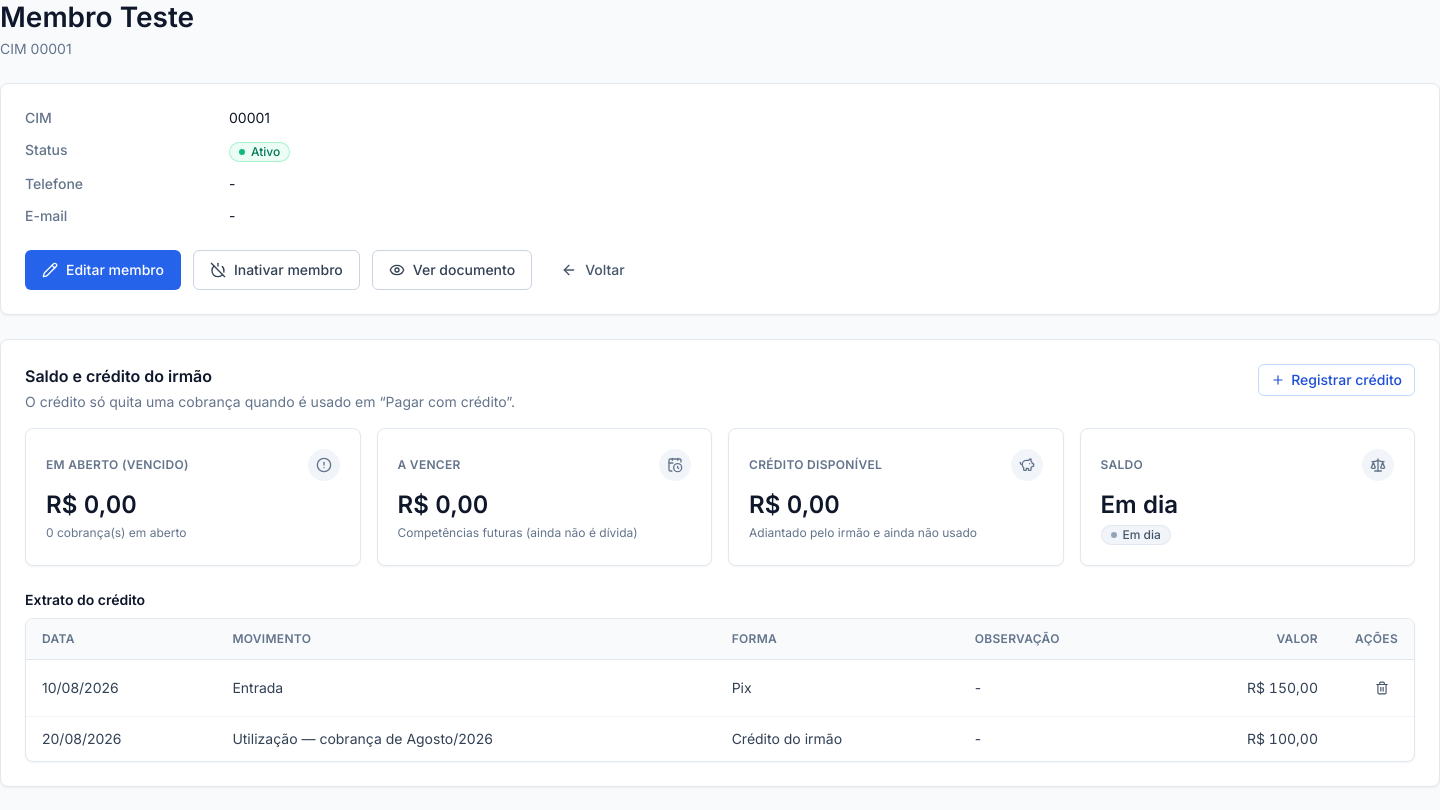
Test: MembroDetailPage — registrar e excluir crédito › exclui uma entrada após confirmação e recarrega saldo e extrato; utilização não tem exclusão
Click the button named "Excluir crédito de R$ 150,00 de 10/08/2026".
click(1382, 688)  # box x1=1366 y1=672 x2=1398 y2=704
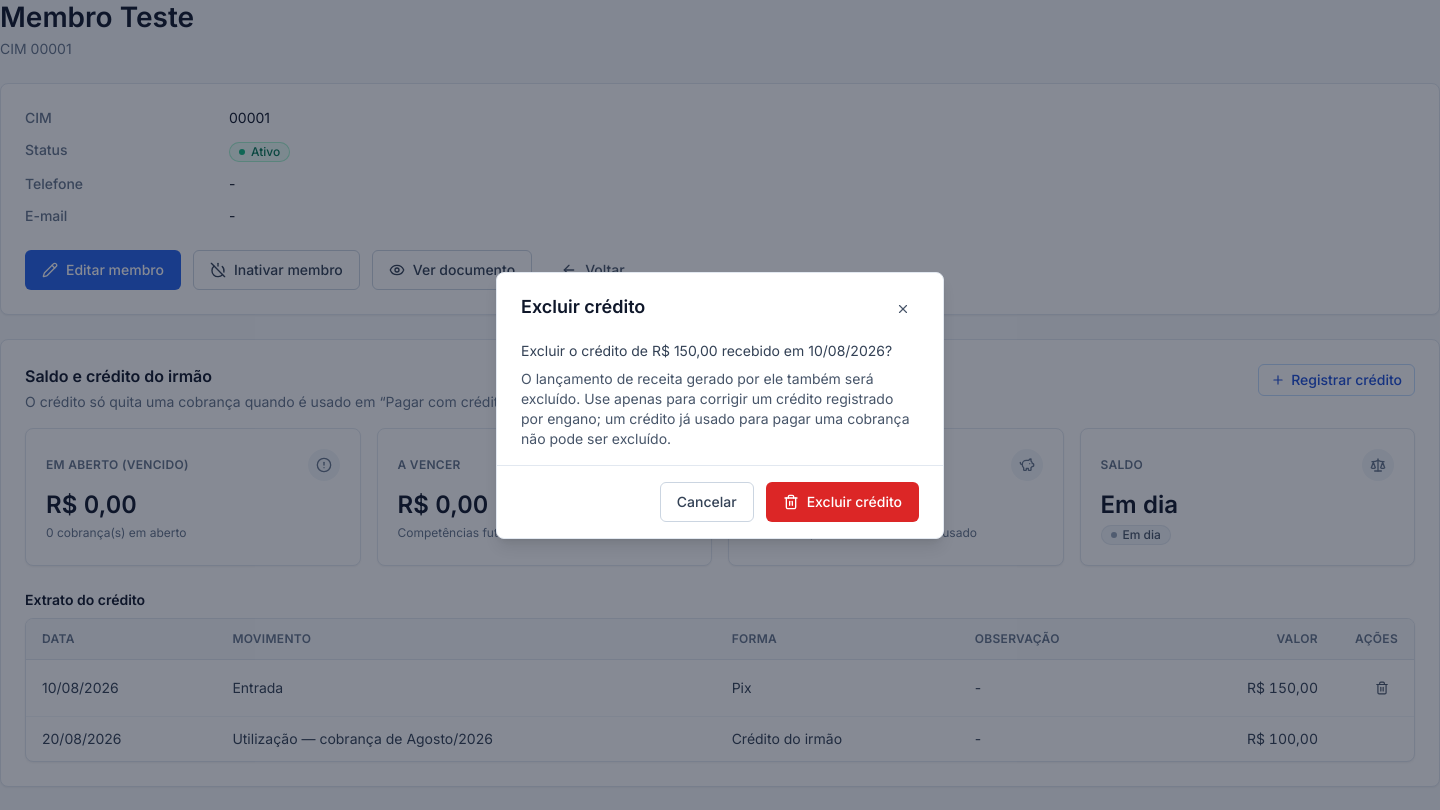
Check: the text "O lançamento de receita gerado por ele também será excluído" is shown, box x1=521 y1=370 x2=910 y2=446
Click the button "Excluir crédito".
click(842, 502)  # box x1=766 y1=482 x2=919 y2=522
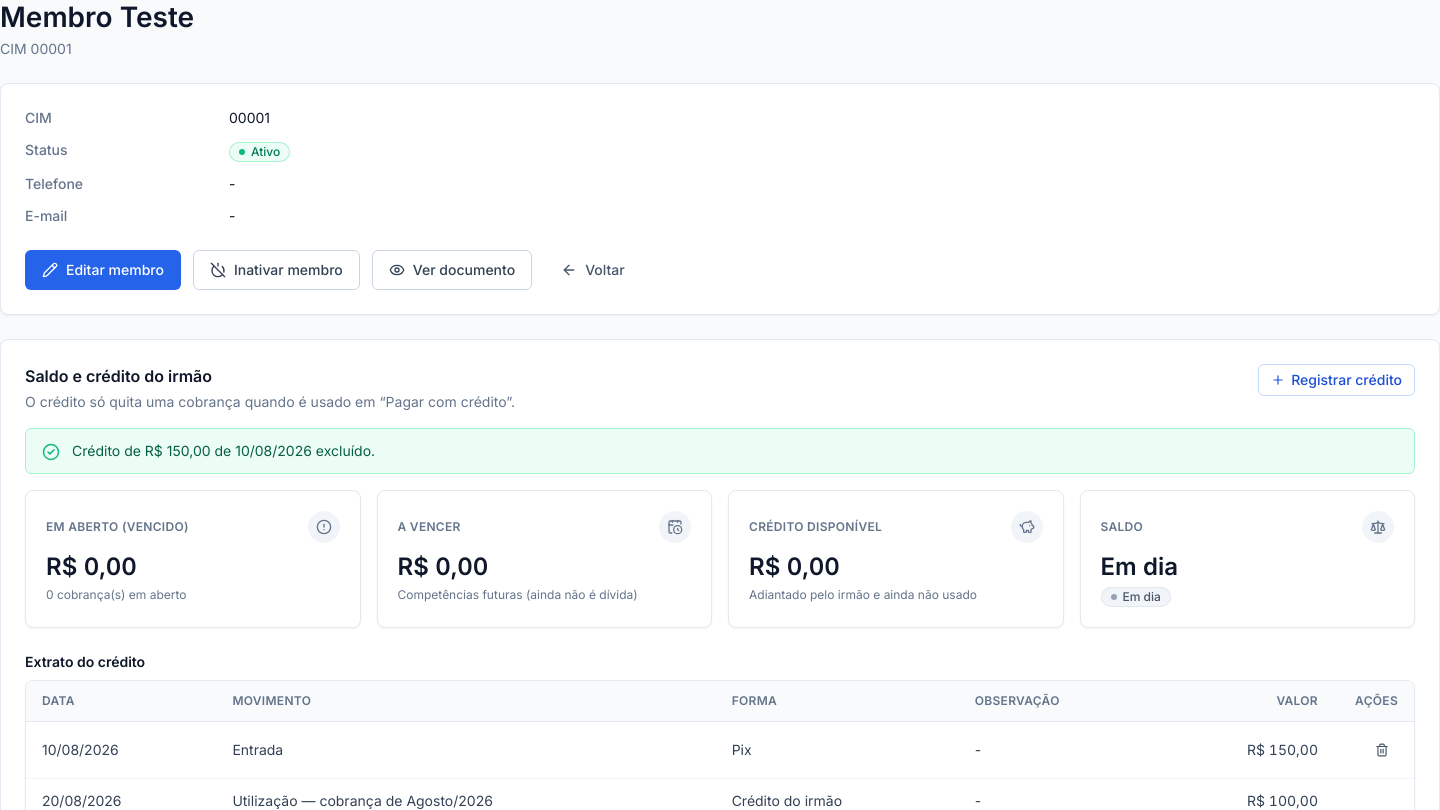
Check: the text "Crédito de R$ 150,00 de 10/08/2026 excluído." is shown, box x1=72 y1=441 x2=375 y2=461
